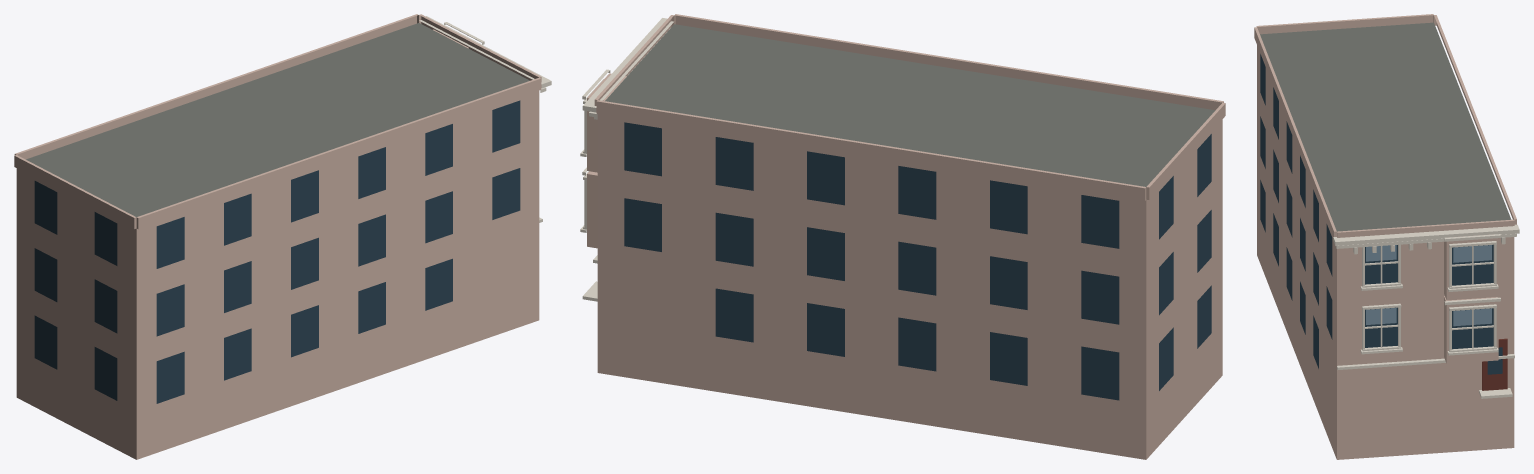
The picture shows the model from 3 angles, left to right: view 1: azimuth 30°, elevation 25°; view 2: azimuth 150°, elevation 25°; view 3: azimuth 270°, elevation 25°; orthographic projection. The views are drawn at different scales.
Parts seen in each view (by area): view 1: Footprint 0 / surface 2, Footprint 0 / surface 1, Inset glazing, Facade bay volumes, Cornices and window frames; view 2: Footprint 0 / surface 2, Footprint 0 / surface 1, Inset glazing, Facade bay volumes, Cornices and window frames; view 3: Footprint 0 / surface 2, Footprint 0 / surface 1, Inset glazing, Facade bay volumes, Cornices and window frames, Sky reflection panels, Storefronts and doors.
Part boxes in pixels (x1,y1,x2,y2): Footprint 0 / surface 2: [16, 90, 539, 459]; Footprint 0 / surface 1: [26, 23, 529, 216]; Inset glazing: [34, 100, 520, 403]; Facade bay volumes: [14, 14, 541, 229]; Cornices and window frames: [419, 16, 551, 222]; Footprint 0 / surface 2: [597, 114, 1222, 459]; Footprint 0 / surface 1: [605, 24, 1215, 186]; Inset glazing: [624, 122, 1211, 400]; Facade bay volumes: [587, 14, 1225, 248]; Cornices and window frames: [580, 18, 673, 301]; Footprint 0 / surface 2: [1257, 45, 1514, 459]; Footprint 0 / surface 1: [1260, 22, 1511, 231]; Inset glazing: [1260, 54, 1502, 374]; Facade bay volumes: [1254, 14, 1516, 363]; Cornices and window frames: [1333, 224, 1519, 398]; Sky reflection panels: [1366, 245, 1491, 326]; Storefronts and doors: [1482, 338, 1507, 390].
Bounding box in the file's own units: 22.57 × 10.79 × 11.36.
